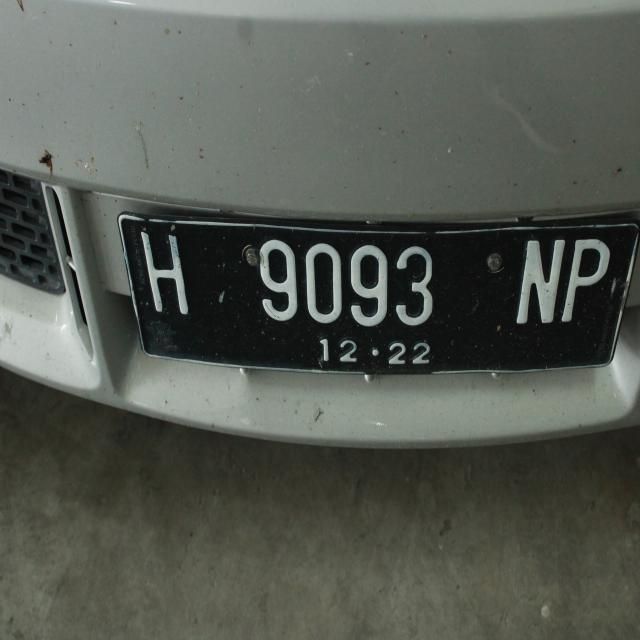0: (300, 236, 348, 330)
3: (392, 238, 444, 338)
9: (252, 233, 302, 324), (346, 240, 393, 328)
H: (138, 215, 192, 329)
N: (509, 228, 566, 332)
P: (558, 225, 618, 338)
